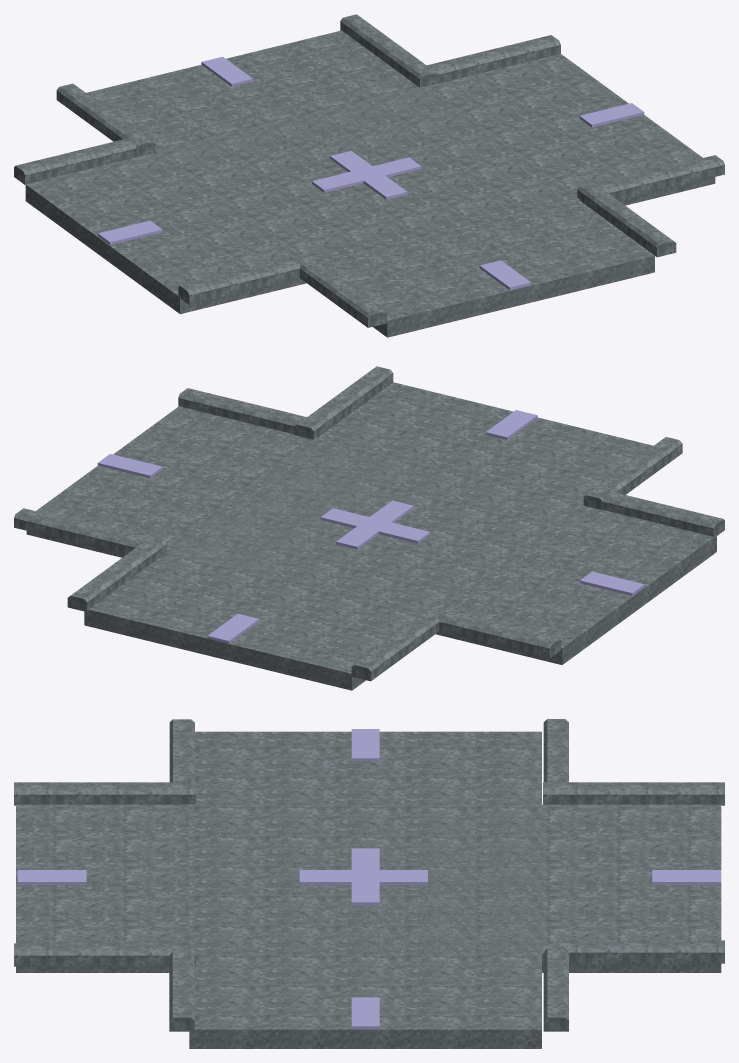
The model's file is RoadCrossing.fbx.
3 renders of one model, top to bottom at view 1: azimuth 30°, elevation 25°; view 2: azimuth 150°, elevation 25°; view 3: azimuth 270°, elevation 25°, orthographic. The views are drawn at different scales.
Parts seen in each view (by area): view 1: mergedBlocks; view 2: mergedBlocks; view 3: mergedBlocks.
Boxes of the visible parts, x1,y1,x2,y2 form: mergedBlocks: (14,14,724,337); mergedBlocks: (14,366,724,690); mergedBlocks: (14,719,724,1048).
Size of the model in its own units: 1002 by 49.69 by 1008.
Materials: 3 (2 with a texture image).
